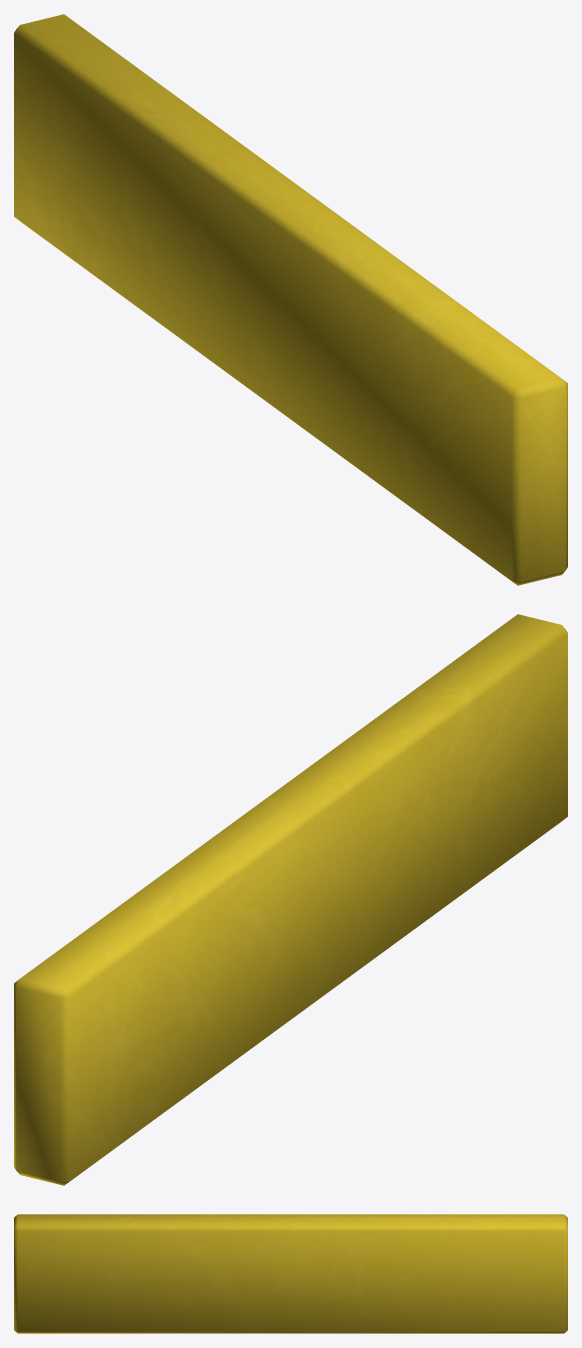
The model's file is SideInnerMat.fbx.
The picture shows the model from 3 angles, top to bottom: view 1: azimuth 30°, elevation 25°; view 2: azimuth 150°, elevation 25°; view 3: azimuth 270°, elevation 25°; orthographic projection. The views are drawn at different scales.
Parts seen in each view (by area): view 1: SideInnerMatLp; view 2: SideInnerMatLp; view 3: SideInnerMatLp.
Boxes of the visible parts, x1,y1,x2,y2 form: SideInnerMatLp: (14,14,567,585); SideInnerMatLp: (14,614,567,1185); SideInnerMatLp: (14,1214,567,1333).
Bounding box in the file's own units: 30.91 × 103 × 479.
